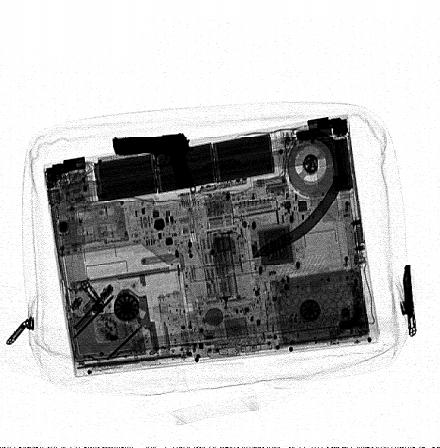Gun: (112, 133, 196, 191)
